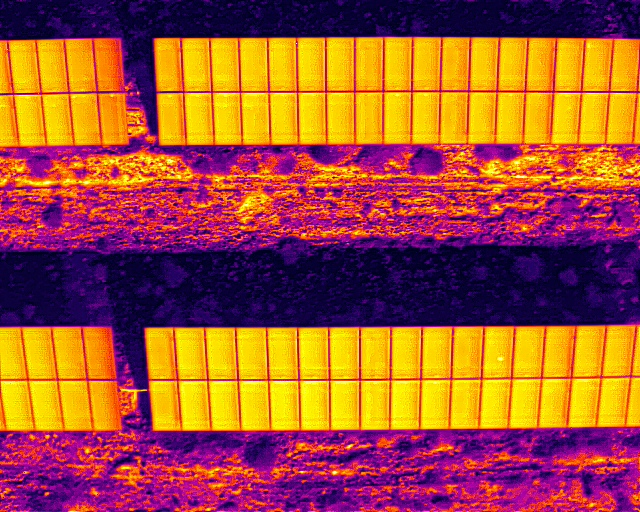photovoltaic_panels: (142, 323, 637, 432), (152, 35, 638, 144), (2, 38, 130, 147), (2, 324, 123, 432)
single_spot: (481, 326, 514, 377)
